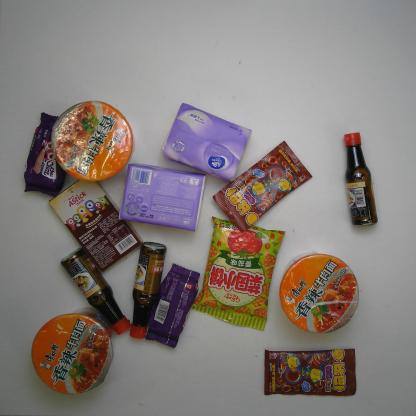Candy: (211, 140, 313, 232), (262, 349, 357, 395)
Dessert: (49, 173, 144, 272), (144, 264, 199, 348), (22, 111, 70, 198)
Instant Noodles: (30, 313, 114, 395), (280, 252, 360, 335), (51, 100, 132, 180)
Puffed Food: (191, 216, 285, 330)
Seasoner: (61, 247, 131, 336), (130, 241, 167, 339), (342, 130, 378, 228)
Tissue: (160, 102, 252, 182), (117, 162, 207, 233)
